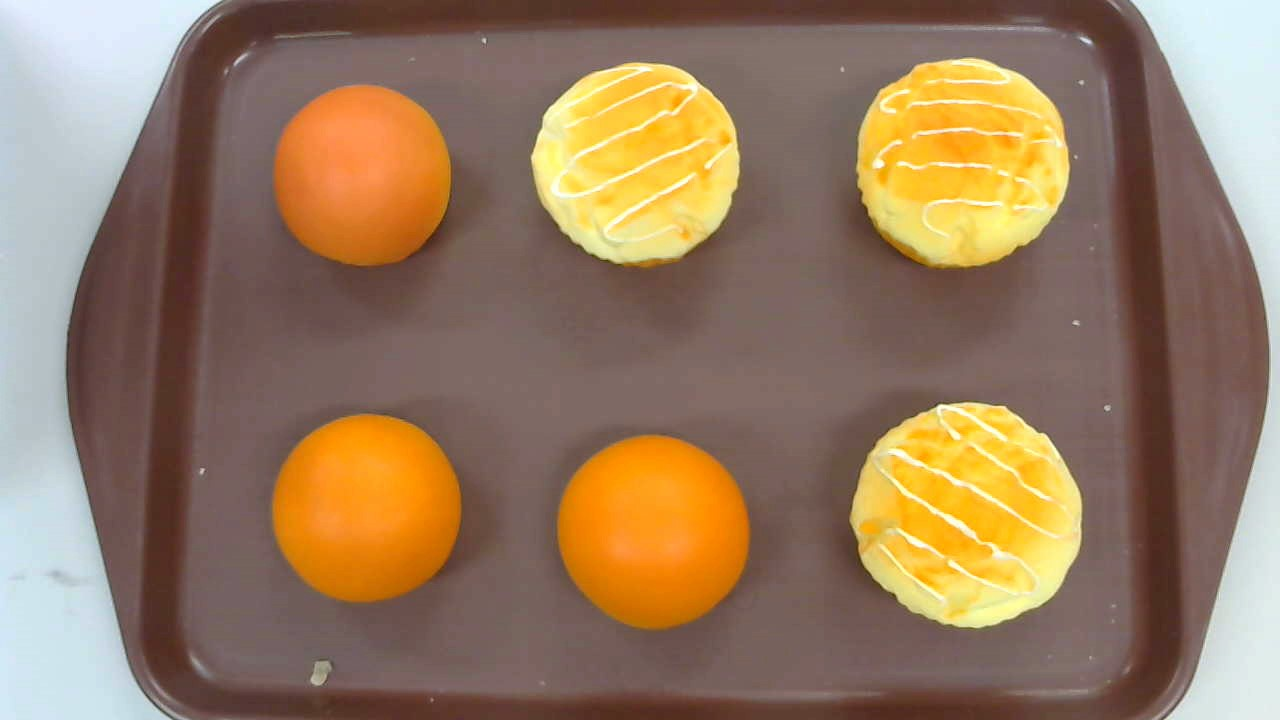bun: (557, 434, 750, 630), (272, 414, 461, 603), (273, 84, 451, 269)
cupcake: (850, 402, 1083, 630), (857, 56, 1071, 269), (530, 62, 741, 270)
